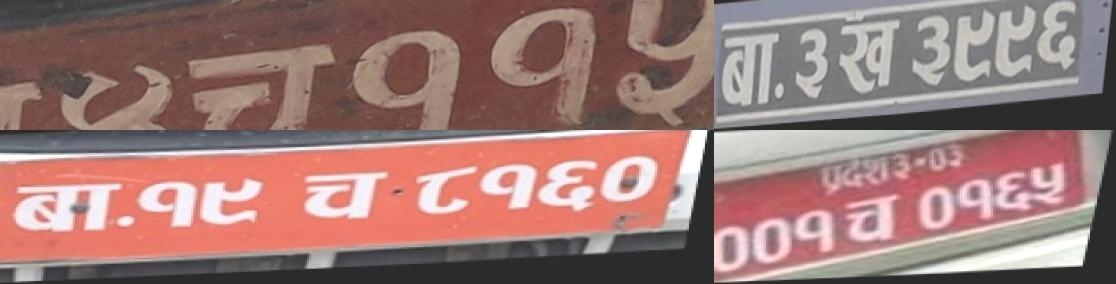0: (596, 160, 670, 213), (749, 216, 805, 265), (714, 224, 764, 272), (914, 187, 966, 232), (924, 149, 952, 173)
1: (132, 176, 206, 237), (474, 165, 546, 220), (789, 208, 853, 254), (952, 177, 1006, 224)
3: (484, 13, 607, 130), (346, 32, 473, 130), (907, 15, 958, 95), (787, 25, 836, 107), (885, 154, 918, 182), (944, 141, 970, 169)
5: (50, 66, 192, 130), (1026, 164, 1074, 209)
6: (610, 0, 714, 130), (534, 163, 607, 220), (1034, 1, 1084, 83), (991, 175, 1035, 215)
8: (407, 165, 482, 221)
9: (175, 46, 342, 130), (193, 172, 273, 234), (992, 5, 1042, 88), (950, 10, 1000, 91)
ba: (4, 175, 130, 241), (714, 28, 782, 114)
cha: (291, 167, 400, 229), (836, 196, 913, 245)
kha: (831, 19, 905, 102)
